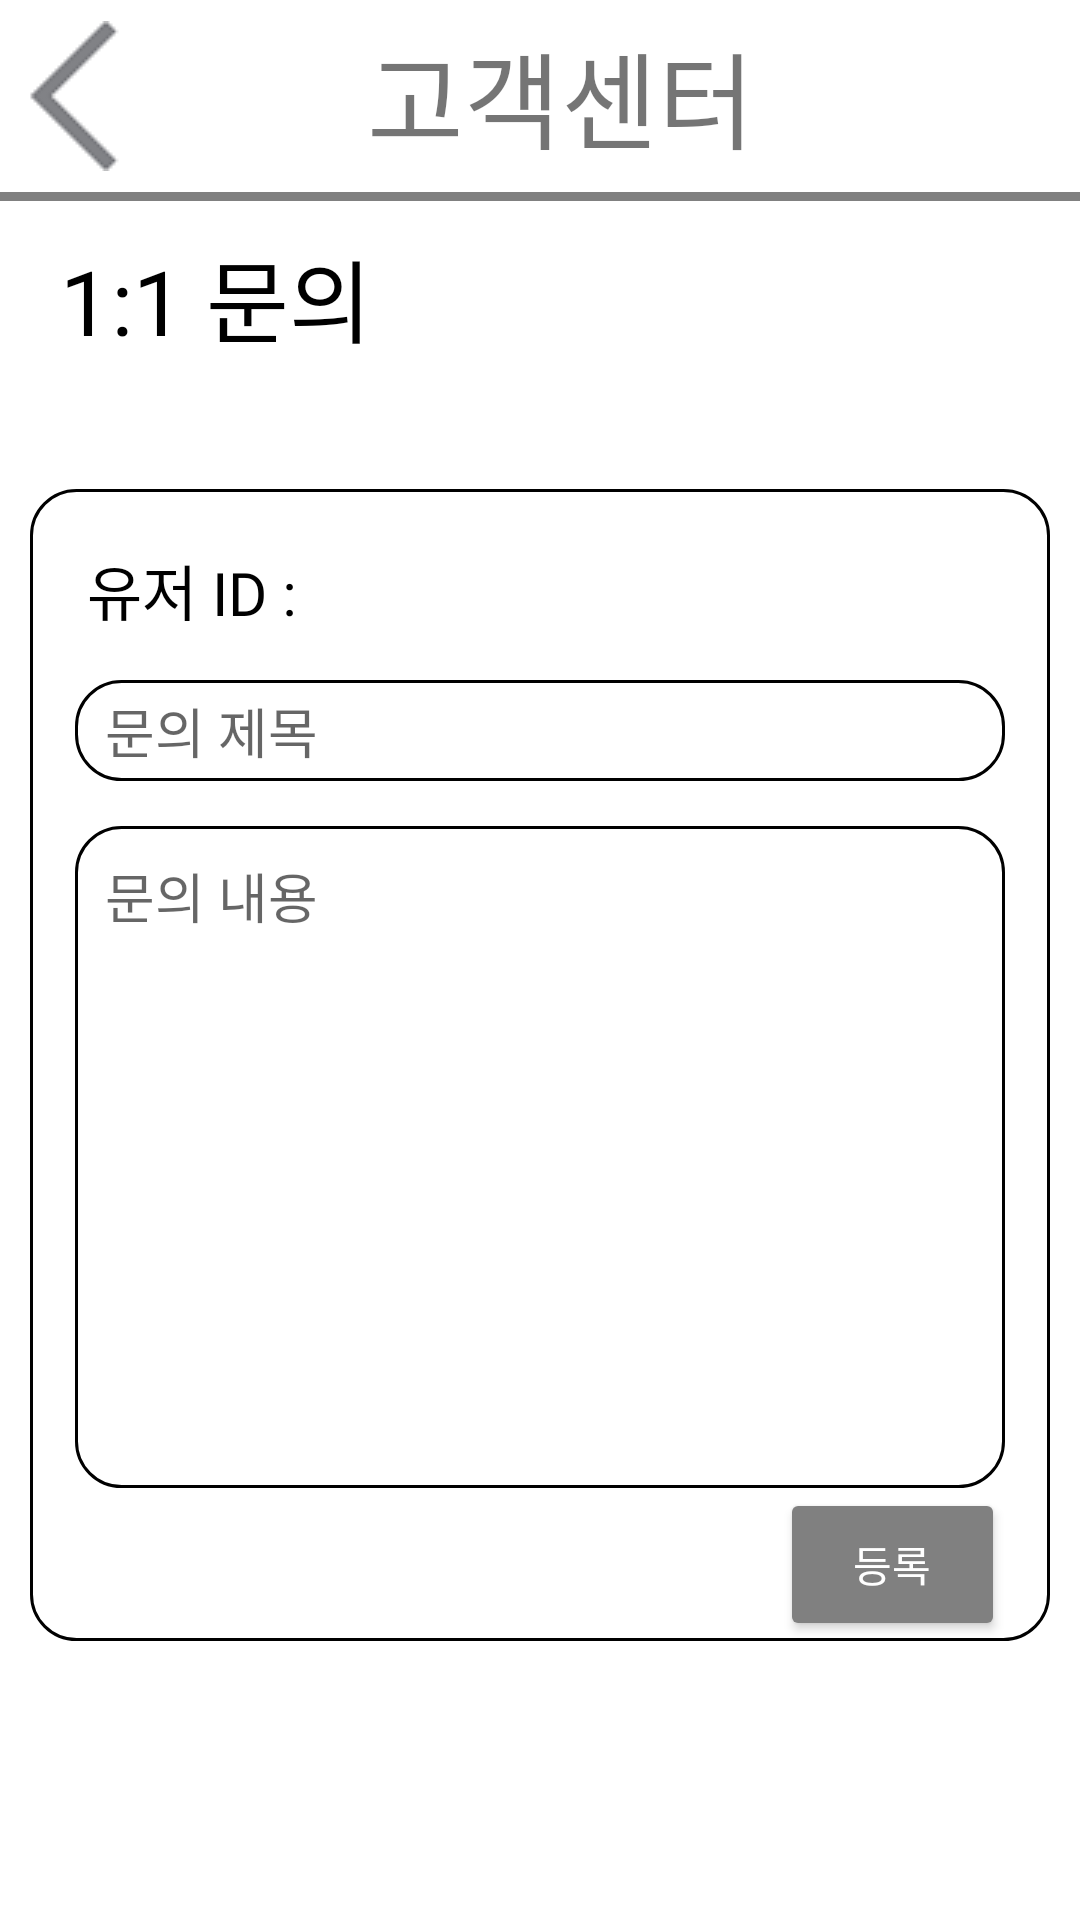

Icons on this 1080x1920 Android screen, each with its box as (left=x1, top=y1, right=x2, bottom=y2):
back space: (left=30, top=21, right=117, bottom=171)
